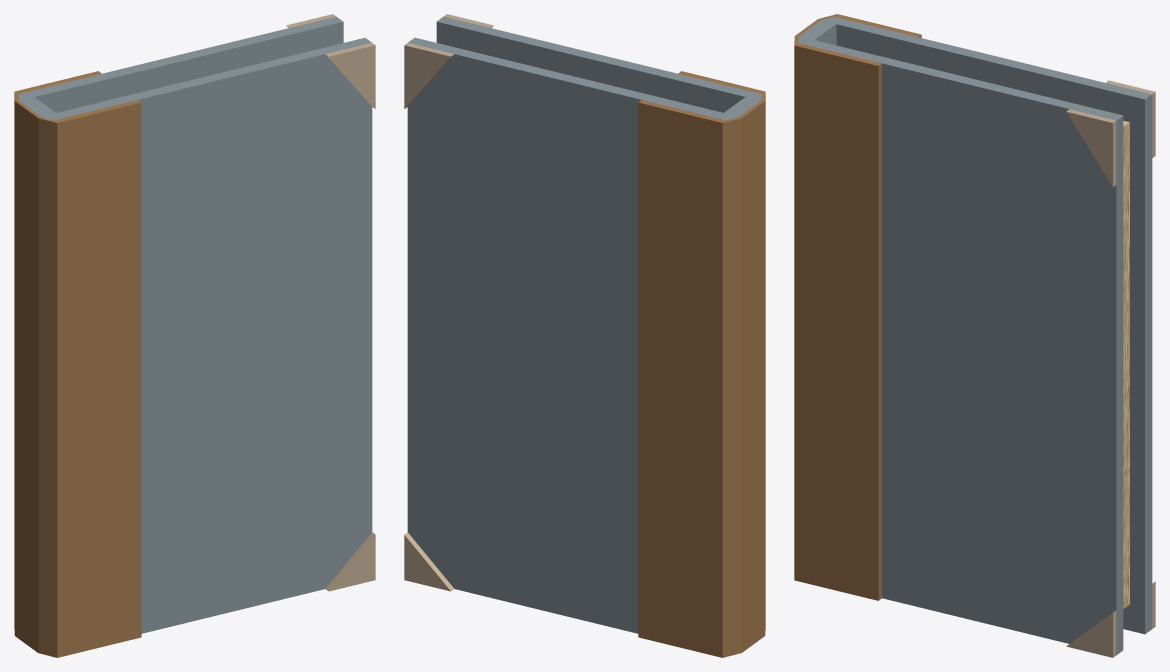
File: Kreckler_BlueBk.fbx
3 views of the same model, side by side, from view 1: azimuth 30°, elevation 25°; view 2: azimuth 150°, elevation 25°; view 3: azimuth 330°, elevation 25° (orthographic).
Parts seen in each view (by area): view 1: Blue; view 2: Blue; view 3: Blue.
Boxes of the visible parts, x1,y1,x2,y2 form: Blue: (14, 14, 375, 657); Blue: (404, 14, 765, 657); Blue: (794, 14, 1155, 657).
Bounding box in the file's own units: 2.32 × 3.62 × 0.5282.
